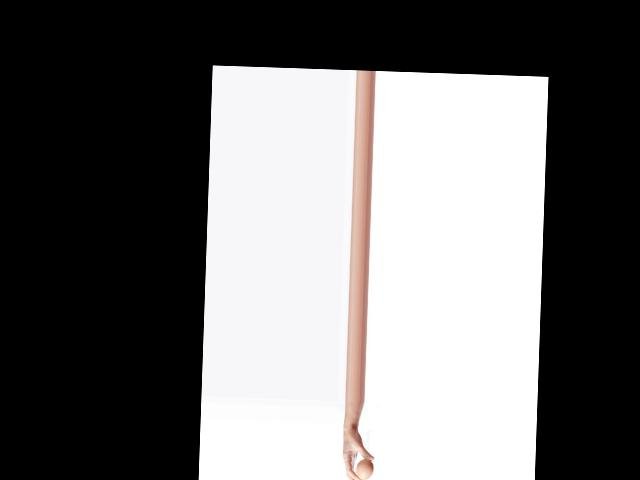egg: (356, 458, 374, 480)
